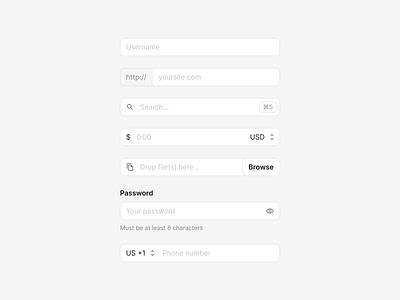button: (245, 159, 281, 177)
dropdown: (121, 131, 281, 147), (122, 246, 157, 263)
input: (121, 39, 281, 57), (121, 99, 280, 117), (122, 203, 281, 221), (153, 69, 283, 86), (123, 159, 244, 177), (159, 246, 281, 263)
label: (118, 187, 156, 202)
